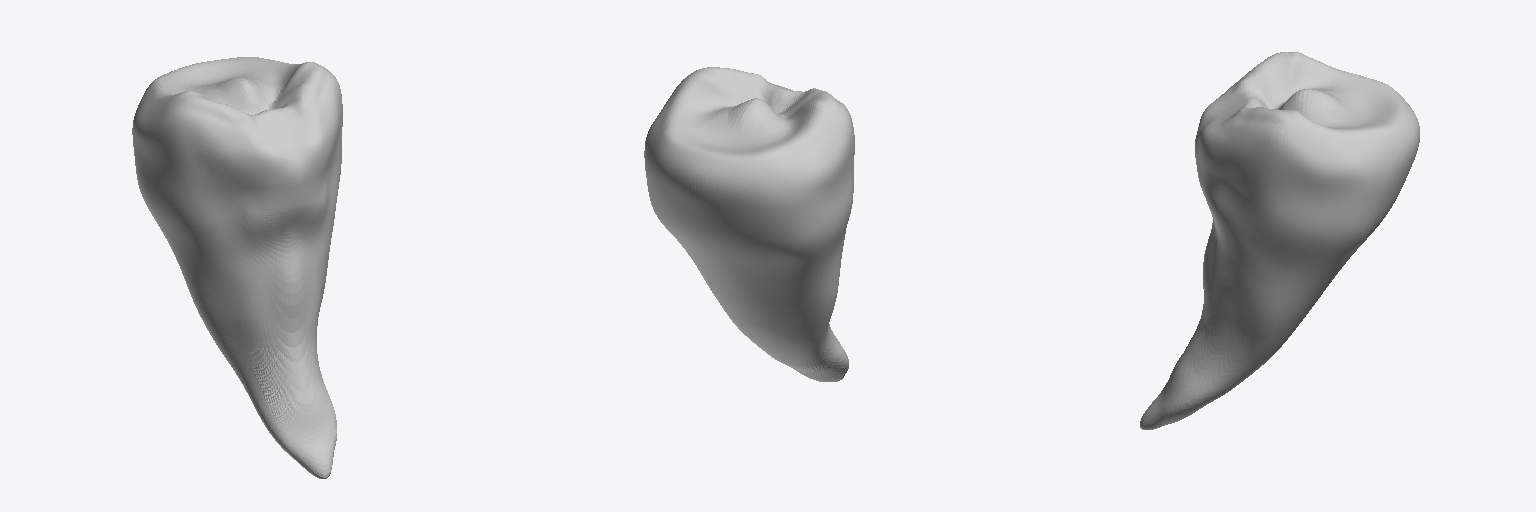
The model's file is tooth1.OBJ.
The picture shows the model from 3 angles: view 1: azimuth 30°, elevation 25°; view 2: azimuth 150°, elevation 25°; view 3: azimuth 270°, elevation 25°; orthographic projection.
Parts seen in each view (by area): view 1: ZBrush_defualt_group; view 2: ZBrush_defualt_group; view 3: ZBrush_defualt_group.
Boxes of the visible parts, x1=… form: ZBrush_defualt_group: x1=132, y1=57, x2=342, y2=478; ZBrush_defualt_group: x1=644, y1=67, x2=854, y2=381; ZBrush_defualt_group: x1=1140, y1=52, x2=1419, y2=429.
Bounding box in the file's own units: 0.8766 × 1.61 × 1.18.